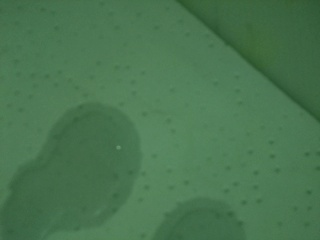Water_detected: (30, 124, 125, 208), (158, 205, 211, 240)
